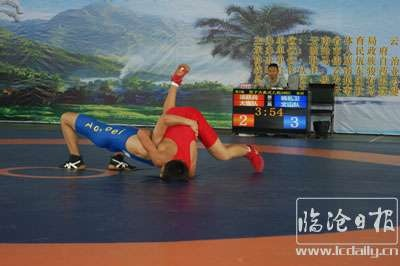falling: (141, 75, 263, 190)
